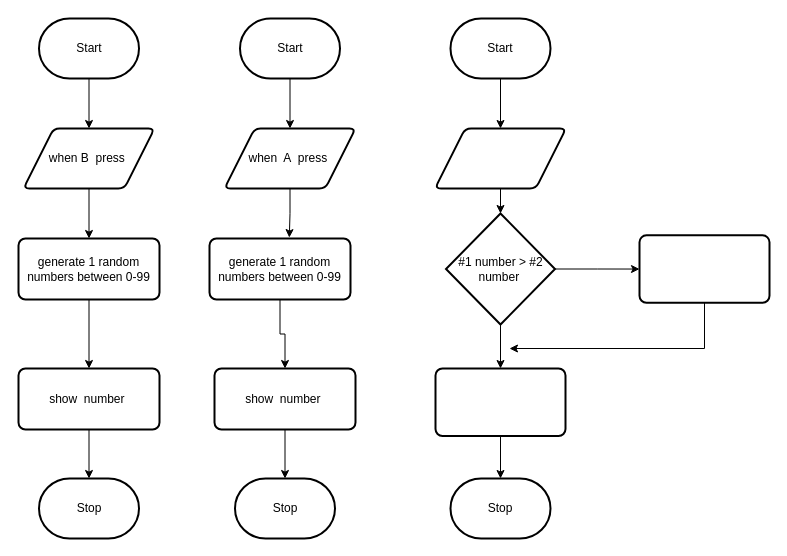
This 787x556 diagram has some shape labels left out. Each missing label, with the centre of its shape:
"Show #1 < #2" goes at point 500,401.
"Show #1 > #2" goes at point 704,268.
"when shake" goes at point 500,158.
